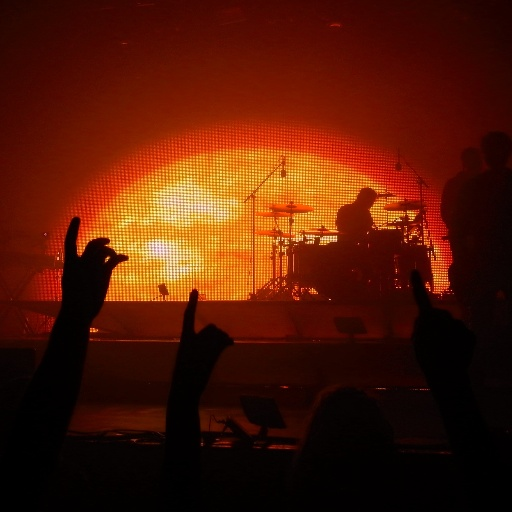hand: (23, 225, 105, 432), (408, 268, 471, 393), (173, 289, 234, 399)
